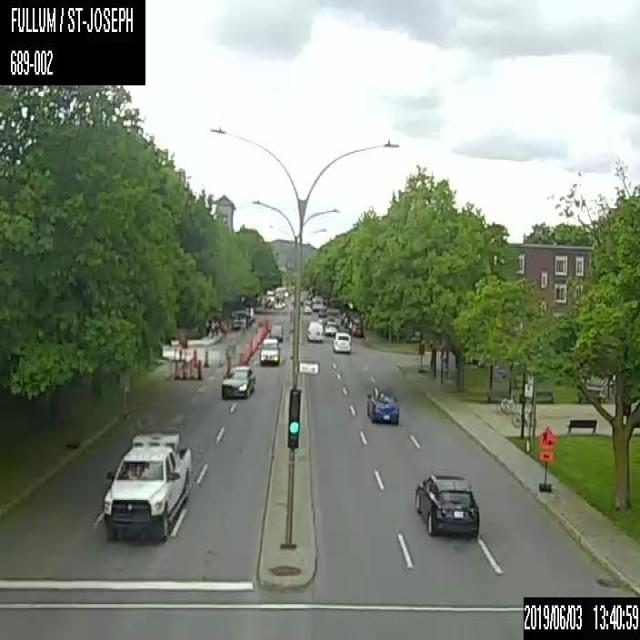construction: (538, 424, 556, 492), (417, 342, 425, 372), (173, 360, 180, 378), (203, 349, 209, 366), (196, 359, 201, 379), (192, 348, 196, 366), (182, 361, 186, 378)
vehicle: (100, 427, 192, 542), (415, 471, 478, 538), (366, 387, 398, 425), (221, 365, 254, 399), (260, 337, 279, 364), (306, 320, 324, 341), (333, 331, 350, 352), (268, 323, 283, 341), (324, 319, 338, 335), (302, 300, 311, 314)
